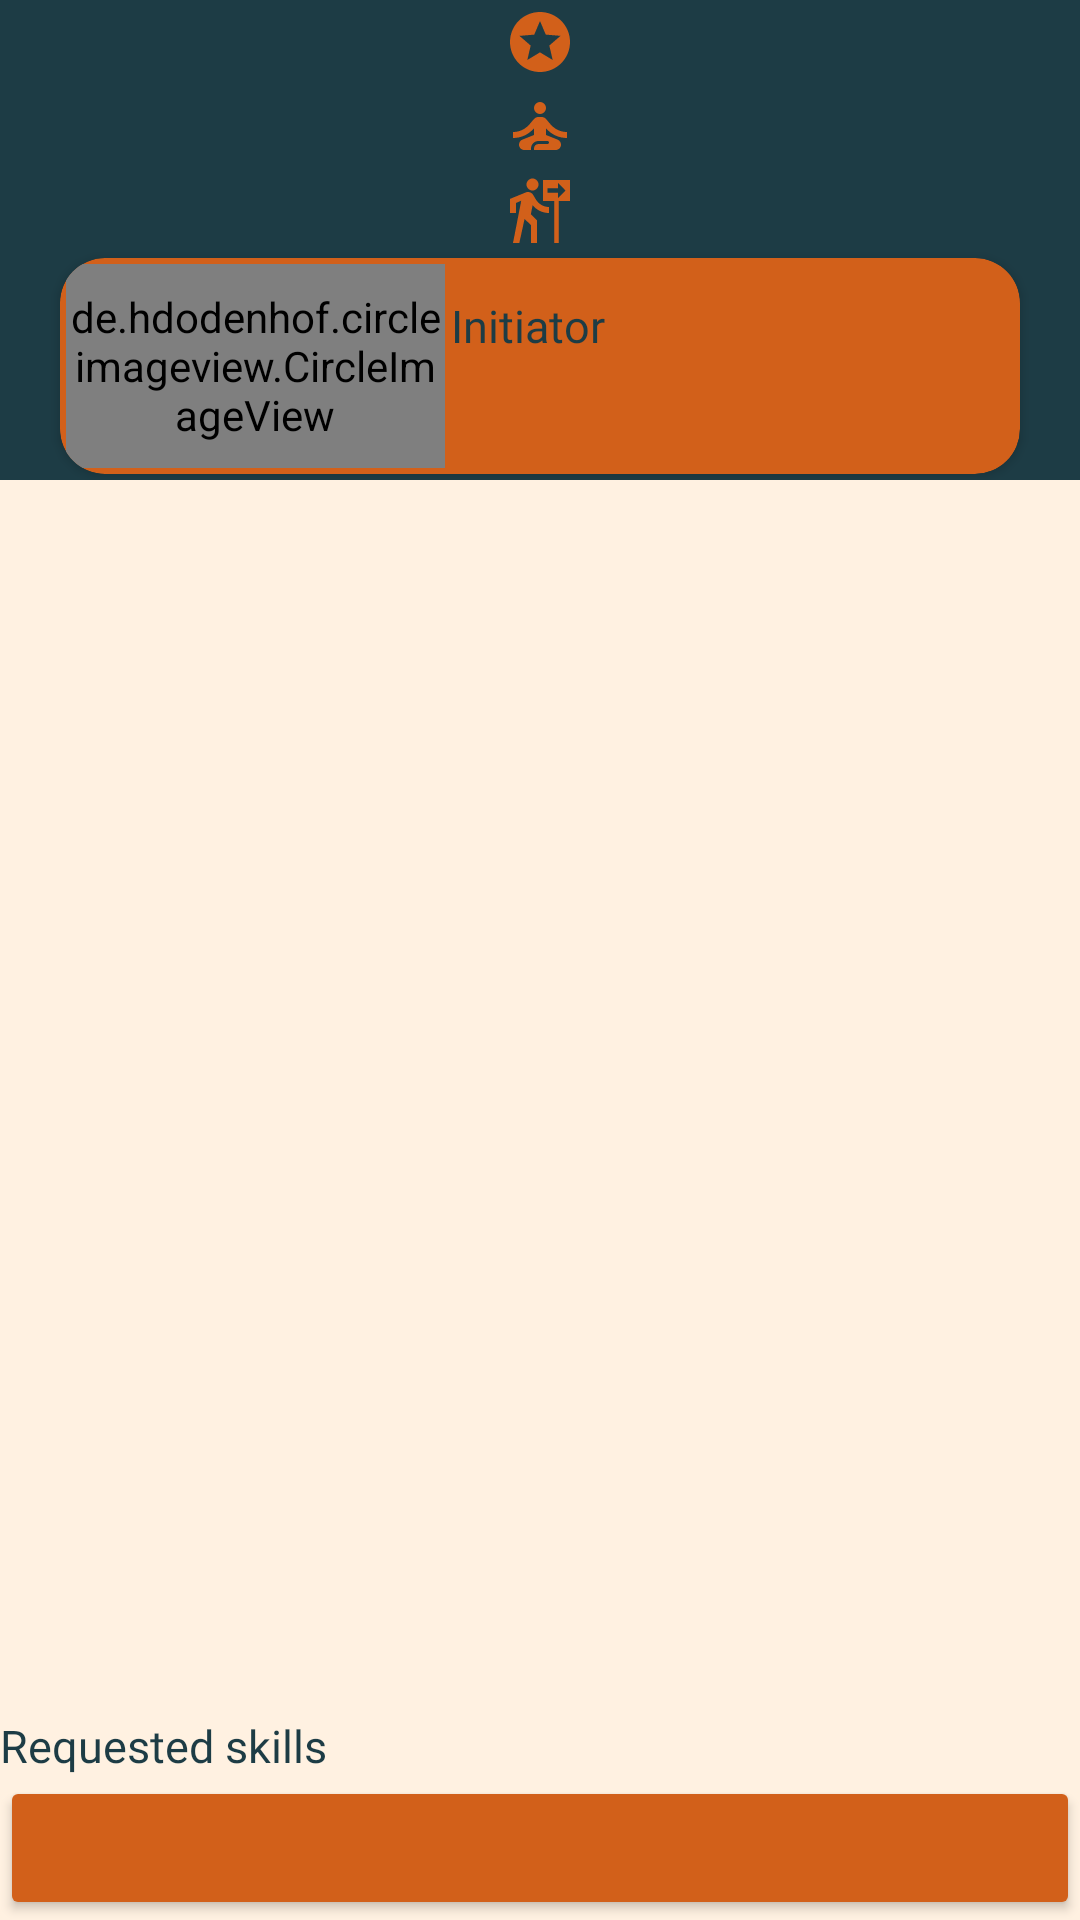

Where to tap for icons on this 1080×1920 app screen, as [x,y]:
follow the signs: [540,210]
self improvement: [540,126]
stars: [540,42]
